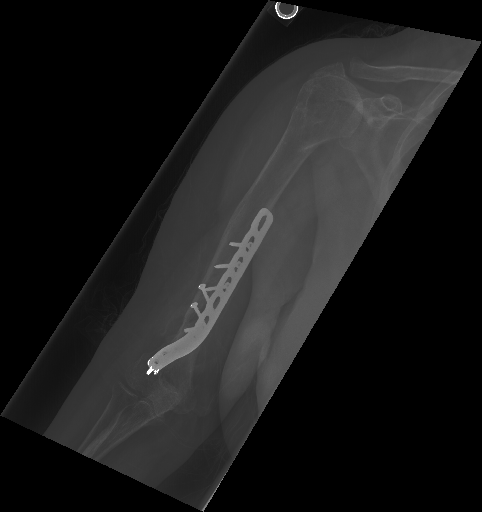implant: (147, 205, 276, 377)
